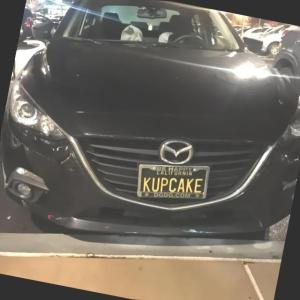Plate: (136, 164, 210, 199)
